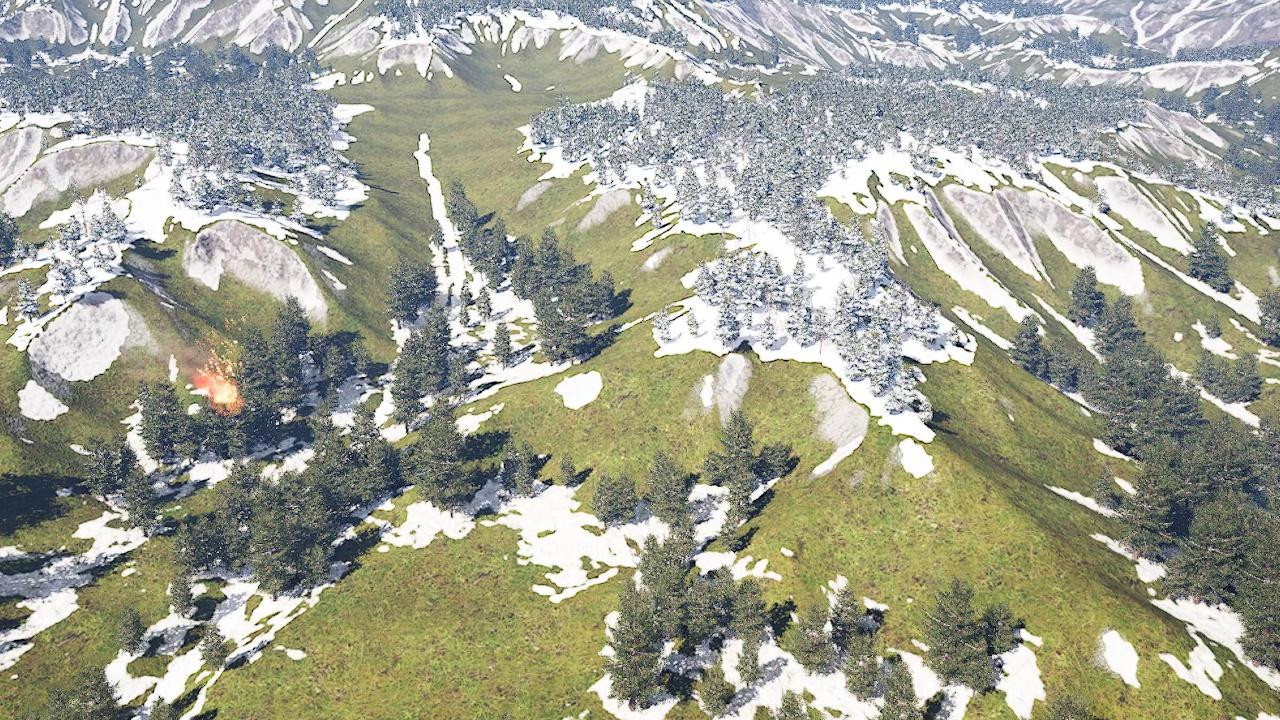fire: (204, 374, 242, 409)
smoke: (145, 344, 238, 395)
